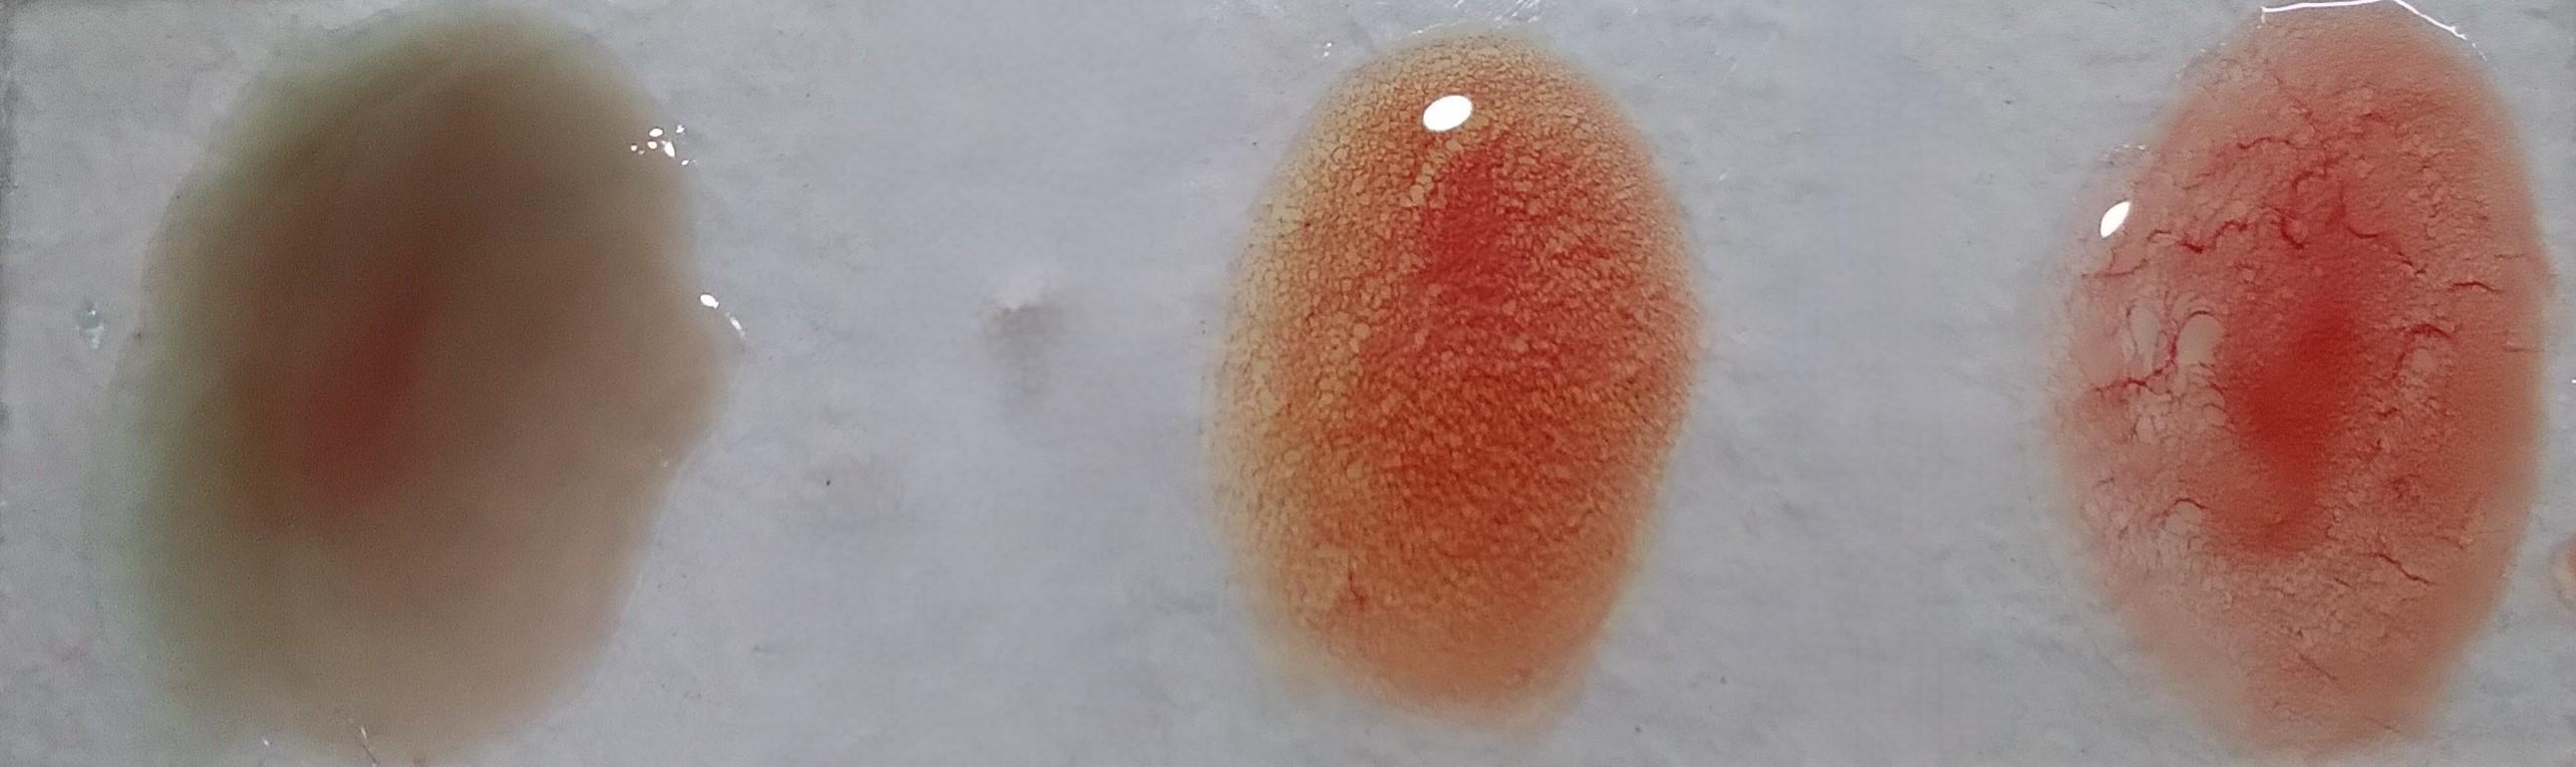B: (1244, 20, 1687, 746)
D: (2088, 3, 2510, 759)
